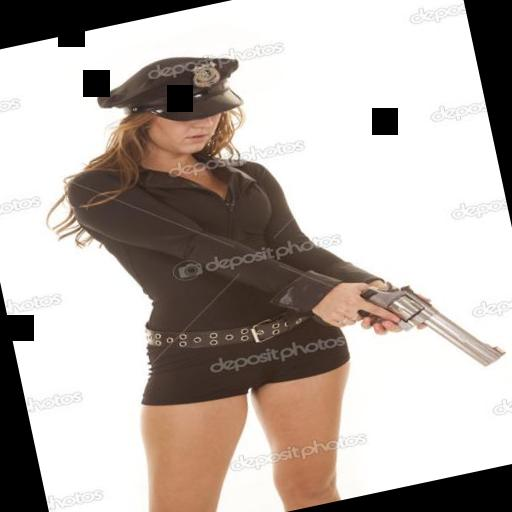Handgun: (301, 256, 511, 400)
